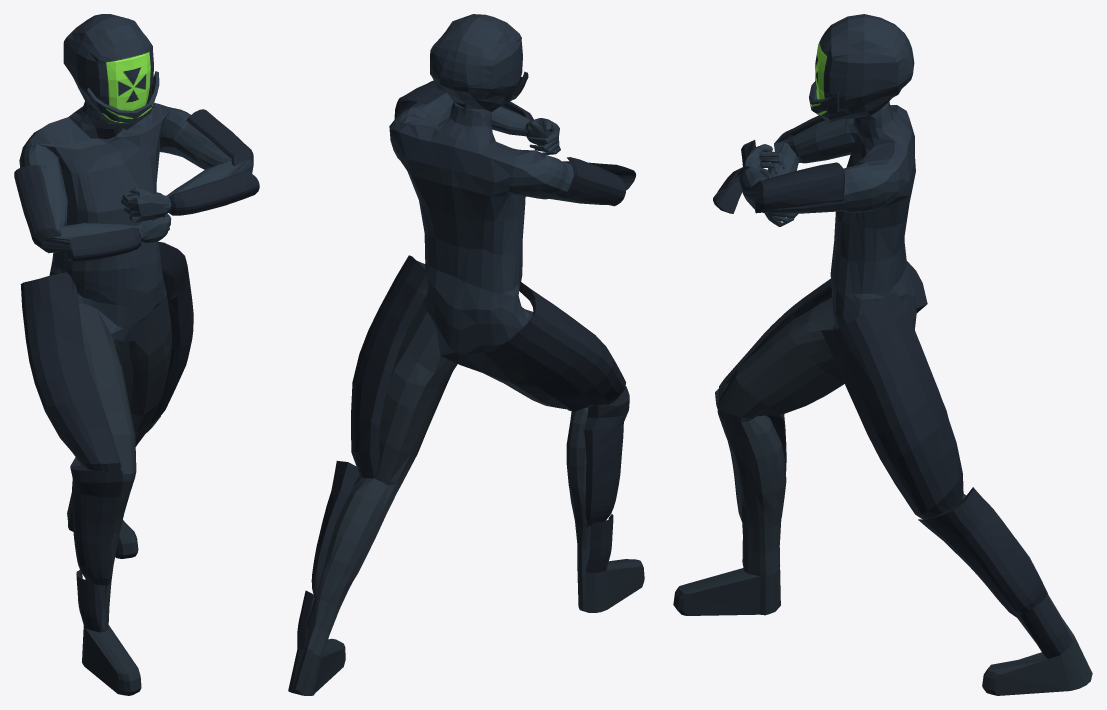
Rendered from Bastion_WL_000002.obj.
The picture shows the model from 3 angles, left to right: view 1: azimuth 30°, elevation 25°; view 2: azimuth 150°, elevation 25°; view 3: azimuth 270°, elevation 25°; orthographic projection. The views are drawn at different scales.
Parts seen in each view (by area): view 1: Cube.002; view 2: Cube.002; view 3: Cube.002.
Part boxes in pixels (x1=…): Cube.002: x1=14, y1=14, x2=259, y2=695; Cube.002: x1=288, y1=14, x2=644, y2=695; Cube.002: x1=673, y1=14, x2=1092, y2=695.
Bounding box in the file's own units: 1.31 × 3.59 × 2.15.
